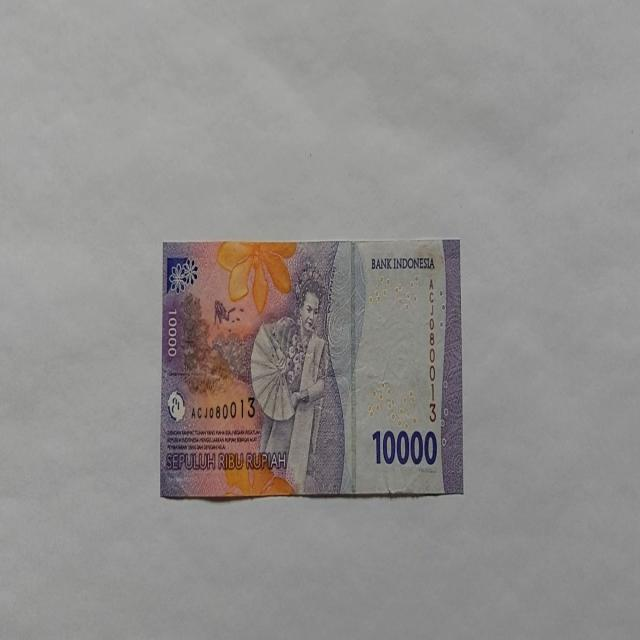sepuluh ribu rupiah: (159, 237, 463, 500)
